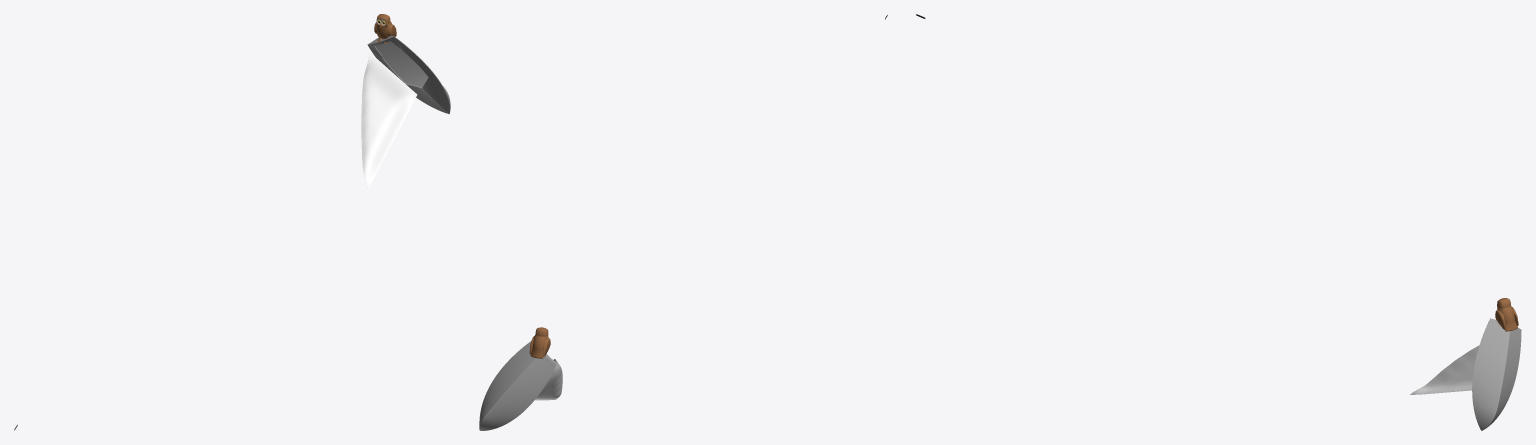
The model's file is intowlboat.glb.
3 renders of one model, left to right at view 1: azimuth 30°, elevation 25°; view 2: azimuth 210°, elevation 25°; view 3: azimuth 270°, elevation 25°, orthographic. The views are drawn at different scales.
Visible parts, largest first — view 1: Wheel_Front_Left.005; view 2: Wheel_Front_Left.005; view 3: Wheel_Front_Left.005.
Part boxes in pixels (box(x1,y1,x2,y2)): Wheel_Front_Left.005: box(14, 14, 450, 430); Wheel_Front_Left.005: box(479, 15, 887, 430); Wheel_Front_Left.005: box(916, 14, 1521, 430).
Size of the model in its own units: 0.3353 by 0.056 by 0.2422.
